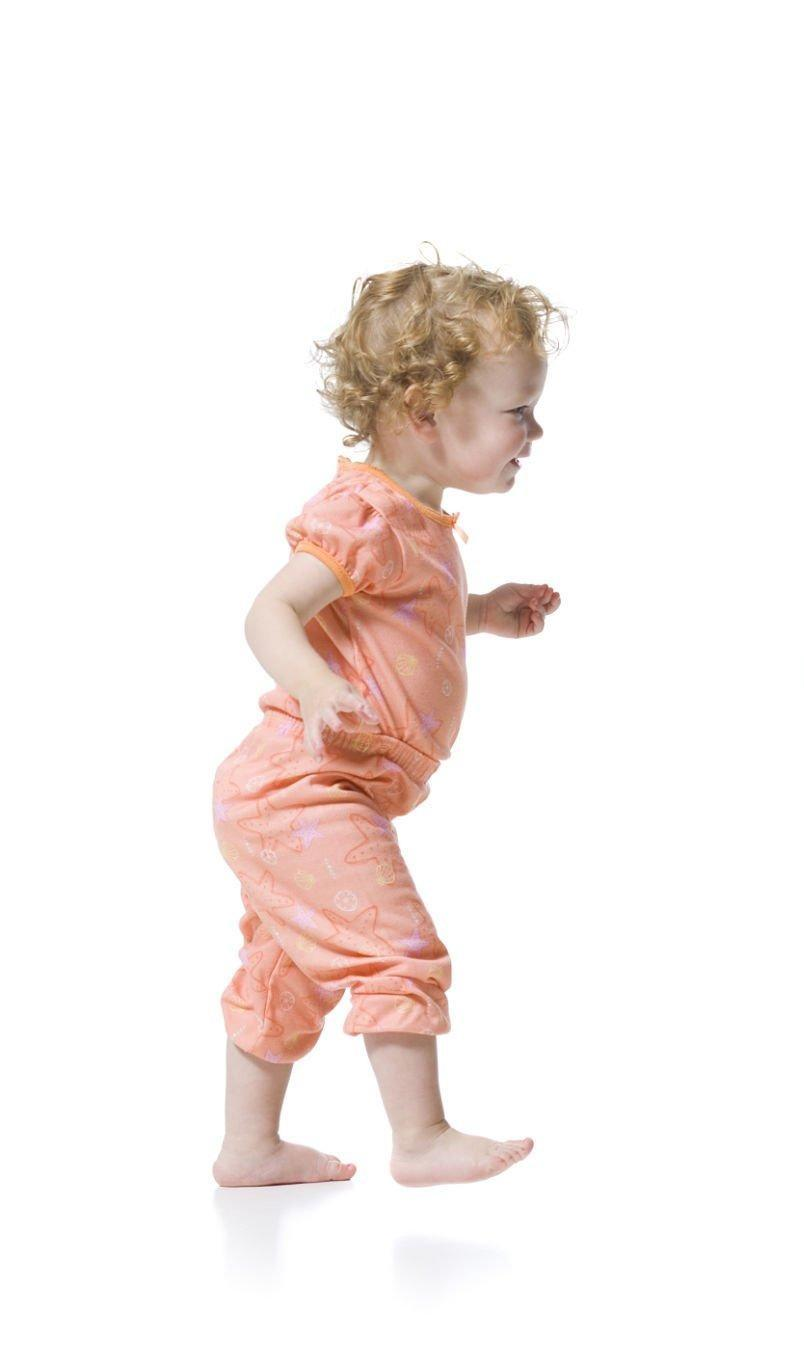Healthy: (367, 217, 592, 546)
